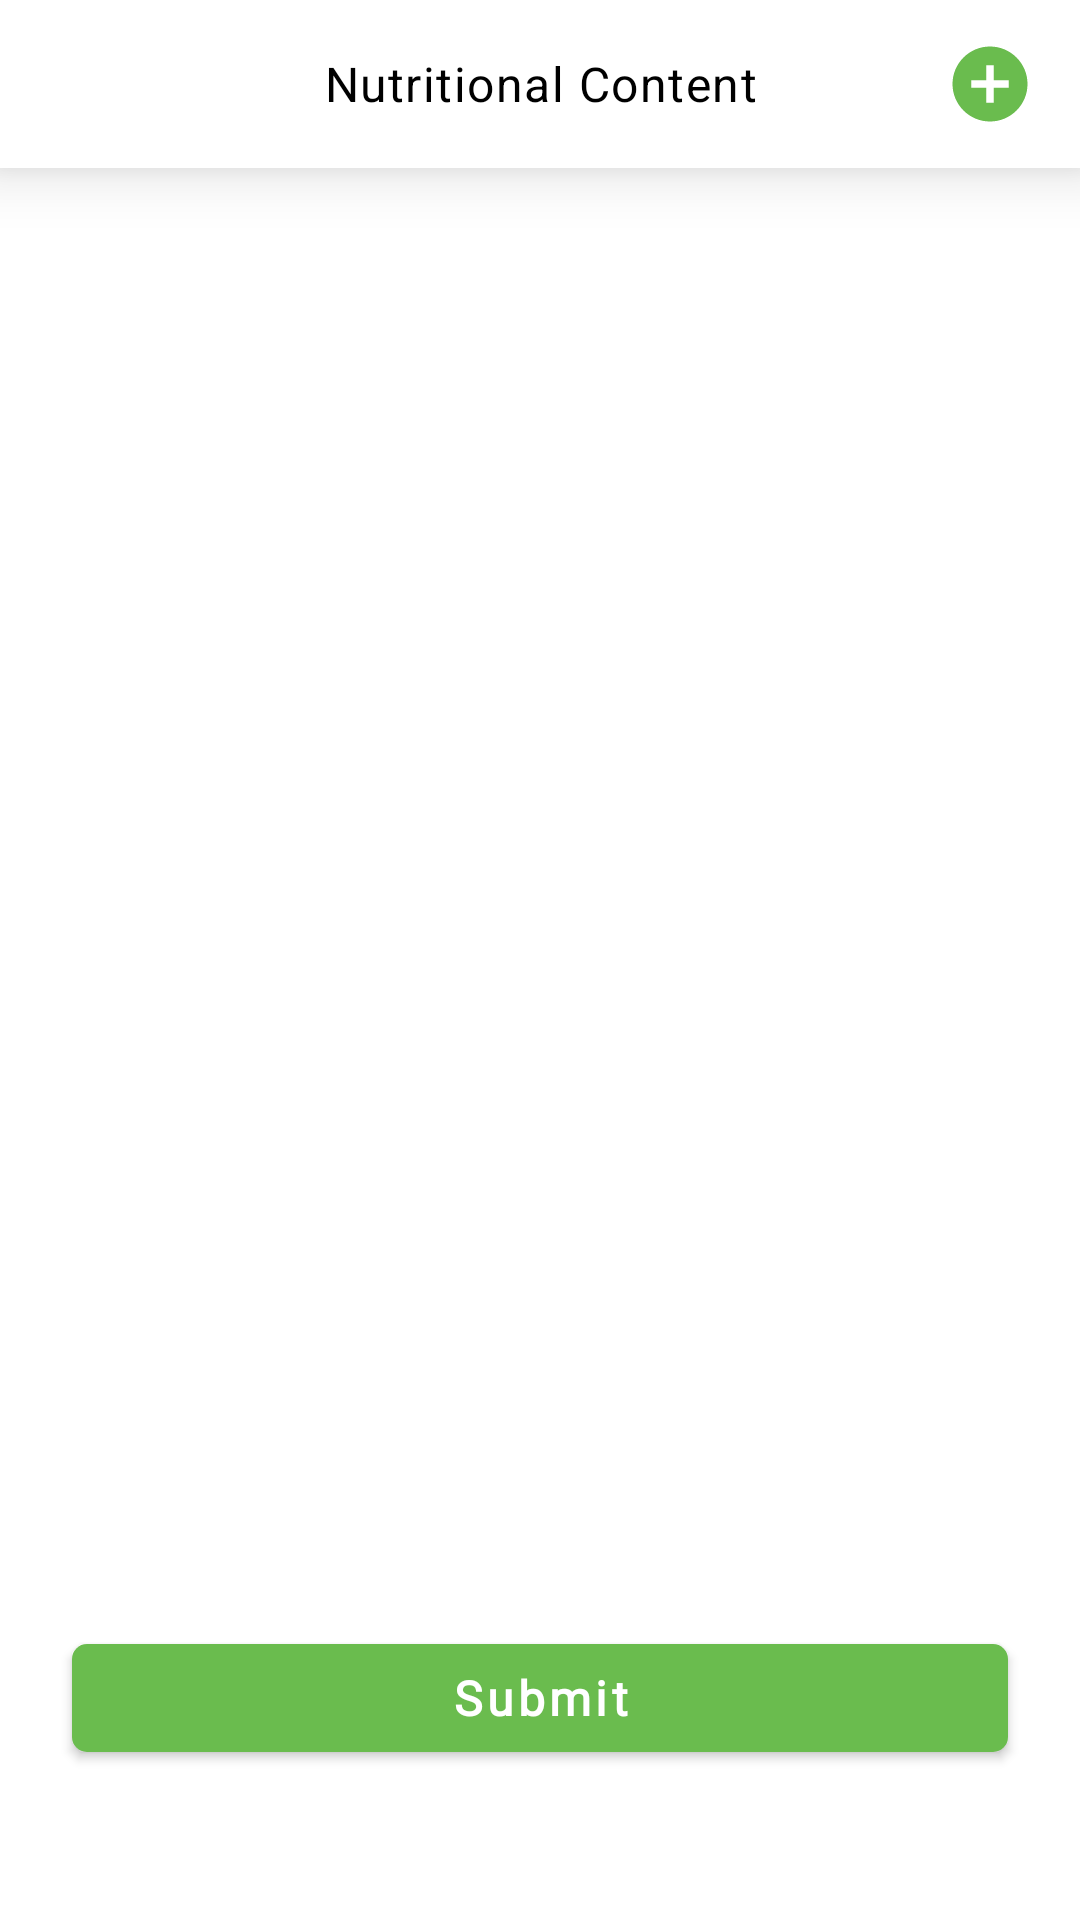

Screen size 1080 × 1920. Icon name, then its box in pixels as (x1, y1, x2, y2):
add: (952, 46, 1028, 122)
